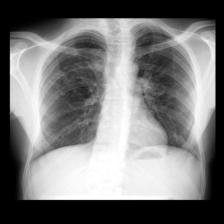tuberculosis: (25, 23, 203, 186)
